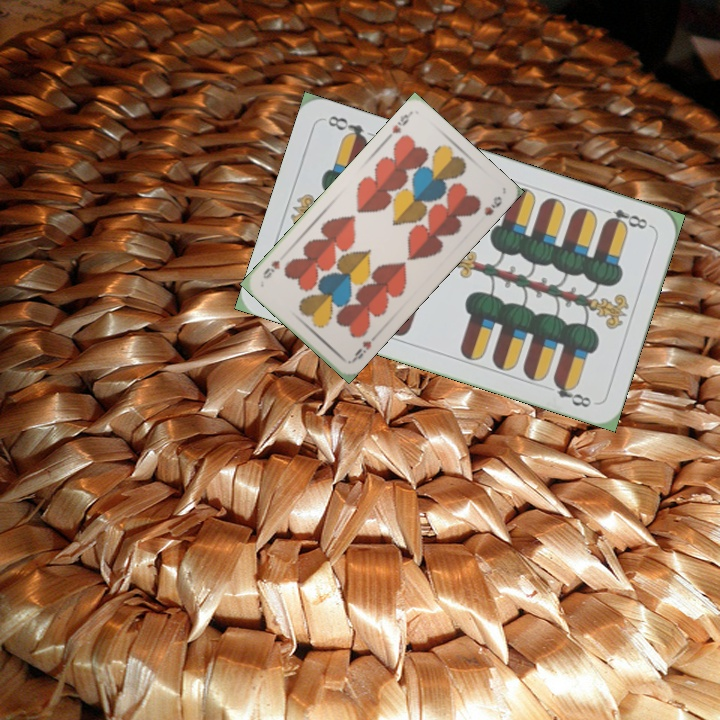E8: (597, 204, 654, 232)
H9: (347, 337, 374, 365), (388, 108, 414, 136)
